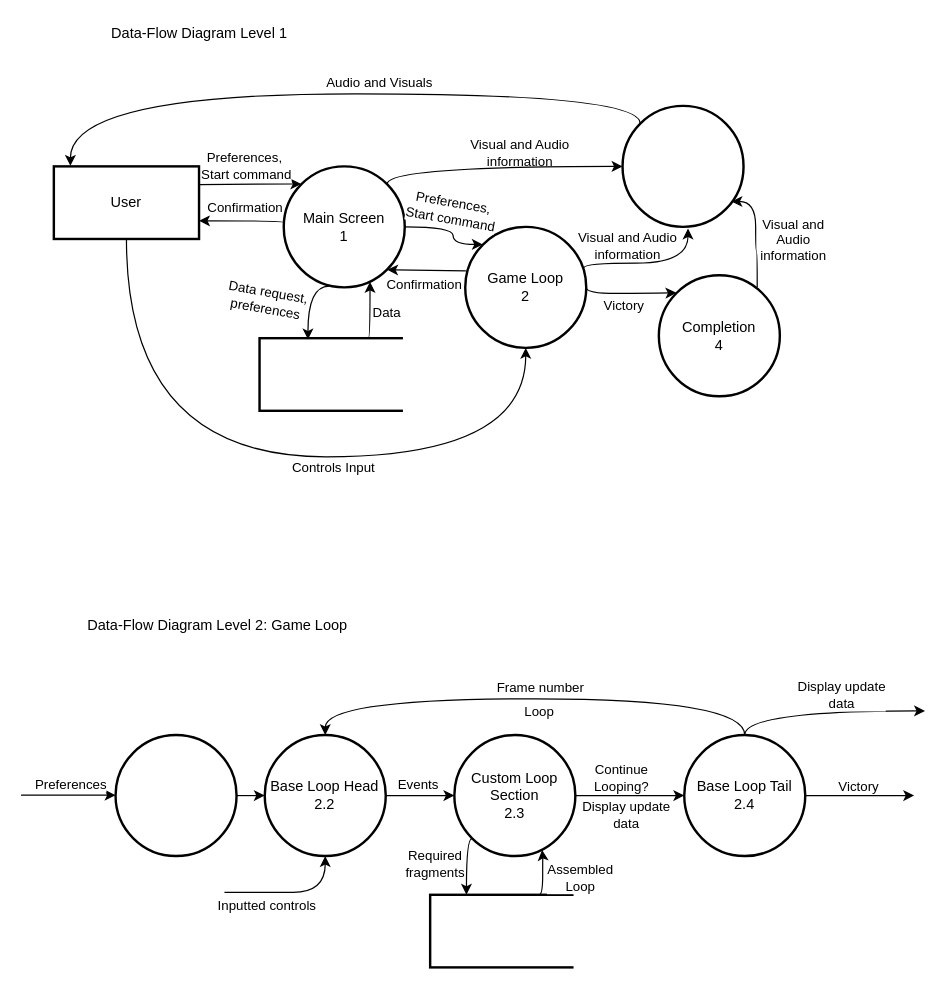
Image size: 945x993. Some labels were removed from this diagram. The shapes that lost their labels are listed below. From the top down, each one's centre as x and y in pixels, then its label:
the point at 682,165: Audio/Visual Interface Layer 3
the point at 331,373: Save Data
the point at 175,795: Screen Setup 2.1
the point at 502,930: Loop Pieces
